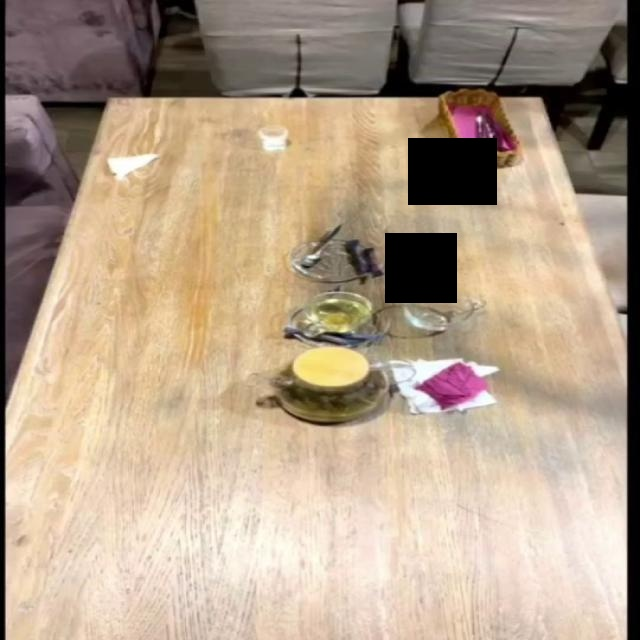tea: (267, 345, 388, 423)
